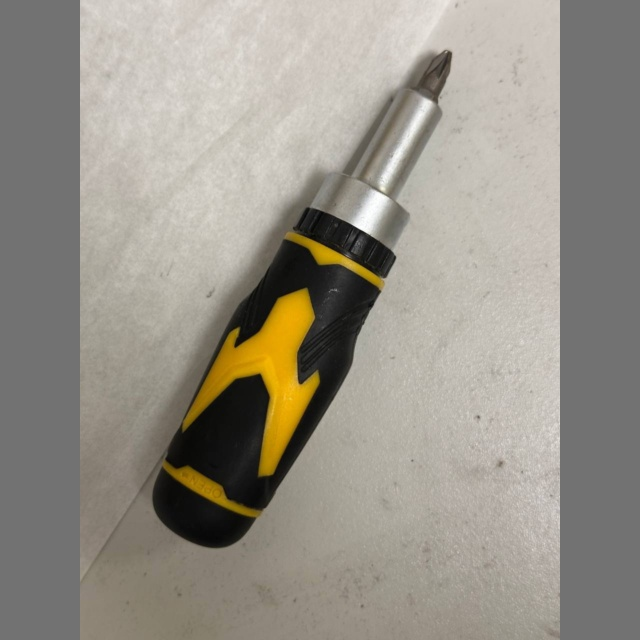screwdriver: (153, 51, 452, 547)
